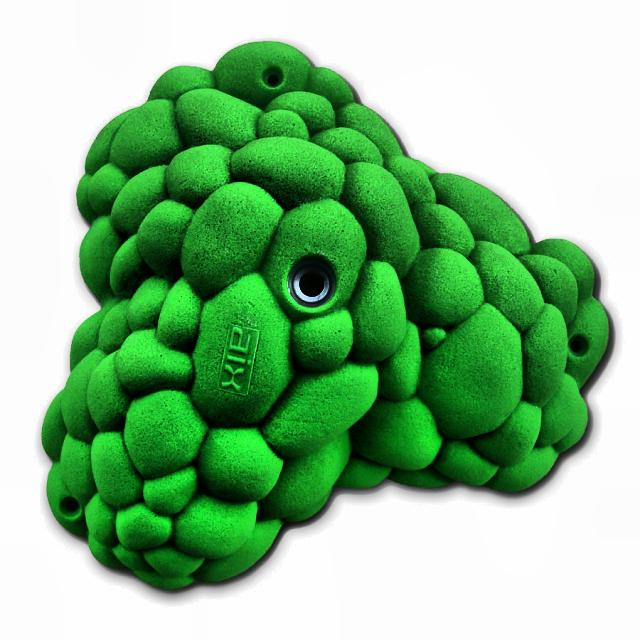Hold: (26, 21, 626, 613)
